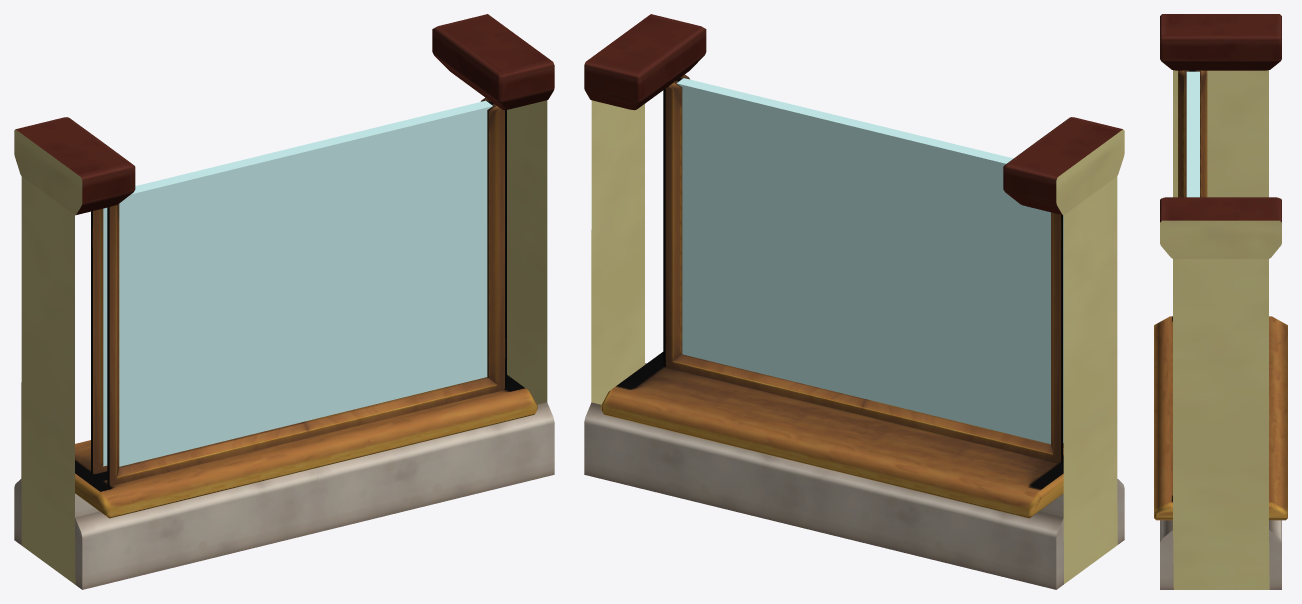
Rendered from Wall_Window.fbx.
3 renders of one model, left to right at view 1: azimuth 30°, elevation 25°; view 2: azimuth 150°, elevation 25°; view 3: azimuth 270°, elevation 25°, orthographic. The views are drawn at different scales.
Parts seen in each view (by area): view 1: brick wall window 02_orange (1), m_city_wall_window_02_glass; view 2: m_city_wall_window_02_glass, brick wall window 02_orange (1), brick wall window 02 inside; view 3: brick wall window 02_orange (1), m_city_wall_window_02_glass, brick wall window 02 inside.
Boxes of the visible parts, left/top/right/bottom form: brick wall window 02_orange (1): left=14, top=14, right=554, bottom=589; m_city_wall_window_02_glass: left=103, top=100, right=492, bottom=466; m_city_wall_window_02_glass: left=676, top=78, right=1063, bottom=444; brick wall window 02_orange (1): left=584, top=14, right=1124, bottom=589; brick wall window 02 inside: left=584, top=402, right=1063, bottom=589; brick wall window 02_orange (1): left=1154, top=14, right=1287, bottom=589; m_city_wall_window_02_glass: left=1186, top=71, right=1199, bottom=197; brick wall window 02 inside: left=1269, top=520, right=1281, bottom=542.
Bounding box in the file's own units: 240 × 200 × 65.73.
